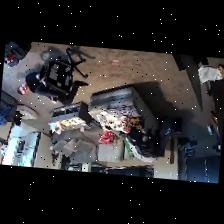person: (18, 72, 88, 105)
